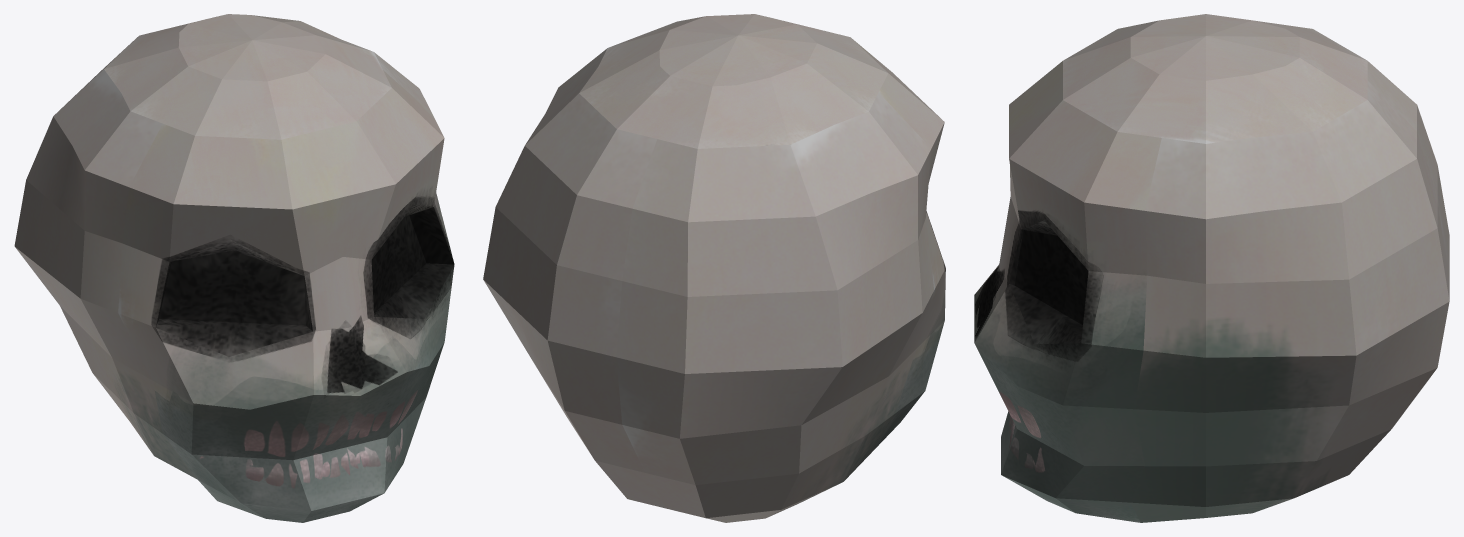
Rendered from geo_Elevator_Skull.fbx.
The picture shows the model from 3 angles, left to right: view 1: azimuth 30°, elevation 25°; view 2: azimuth 150°, elevation 25°; view 3: azimuth 270°, elevation 25°; orthographic projection. The views are drawn at different scales.
Visible parts, largest first — view 1: geo_skull; view 2: geo_skull; view 3: geo_skull.
Boxes of the visible parts, <box> form: geo_skull: <box>14,14,454,522</box>; geo_skull: <box>483,14,945,522</box>; geo_skull: <box>974,14,1449,522</box>.
Size of the model in its own units: 13.29 by 16.03 by 14.88.
1 material, 1 textured.
